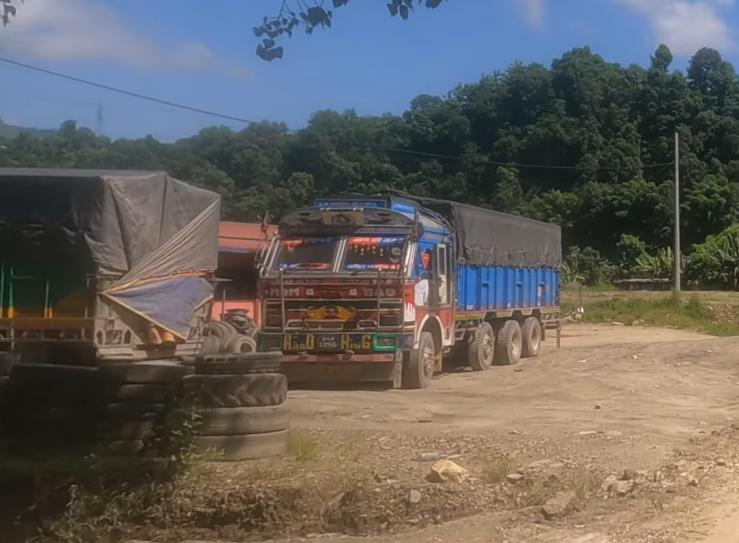truck: (251, 189, 562, 389), (0, 165, 218, 422)
